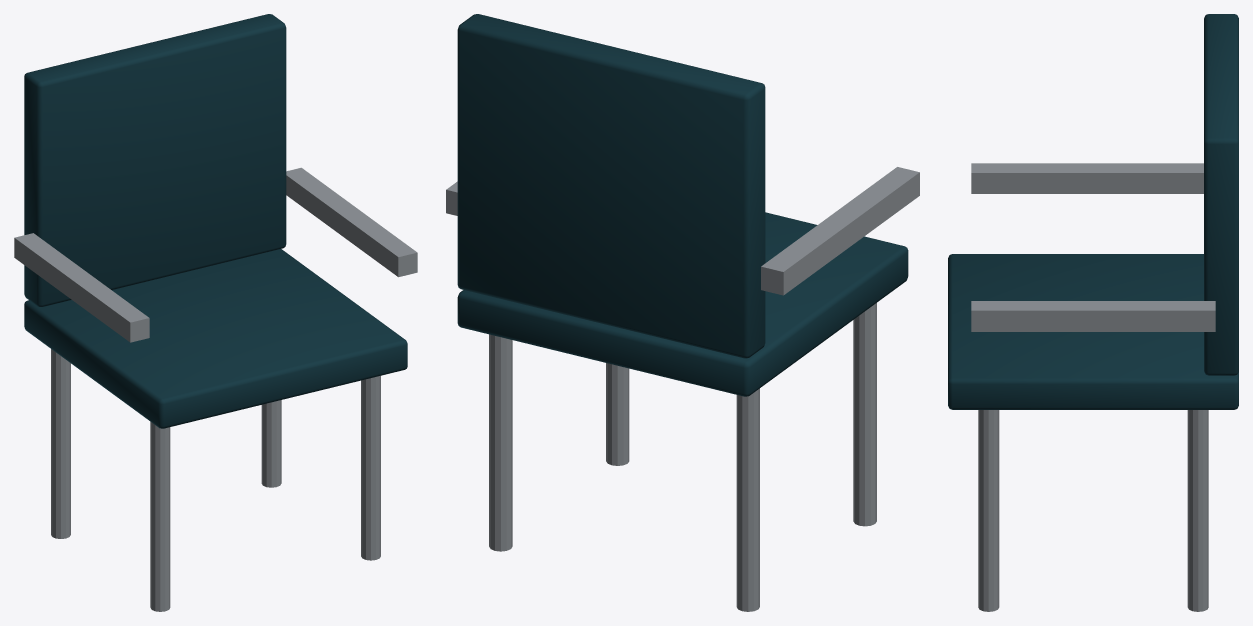
The model's file is hm_bank_lobby_chair_v2.obj.
3 views of the same model, side by side, from view 1: azimuth 30°, elevation 25°; view 2: azimuth 150°, elevation 25°; view 3: azimuth 270°, elevation 25° (orthographic). The views are drawn at different scales.
Parts seen in each view (by area): view 1: LC_Back, LC_Seat, LC_Arm_-0.28, LC_Arm_0.28, LC_LegF_-0.22, LC_LegB_-0.22, LC_LegF_0.22, LC_LegB_0.22; view 2: LC_Back, LC_Seat, LC_Arm_-0.28, LC_LegB_-0.22, LC_LegF_-0.22, LC_LegB_0.22, LC_LegF_0.22; view 3: LC_Seat, LC_Back, LC_Arm_0.28, LC_Arm_-0.28, LC_LegF_0.22, LC_LegB_0.22.
Part boxes in pixels (bbox=[...]): LC_Back: bbox=[24, 14, 286, 306]; LC_Seat: bbox=[24, 249, 407, 428]; LC_Arm_-0.28: bbox=[14, 233, 149, 342]; LC_Arm_0.28: bbox=[286, 167, 417, 277]; LC_LegF_-0.22: bbox=[150, 421, 170, 611]; LC_LegB_-0.22: bbox=[51, 349, 70, 538]; LC_LegF_0.22: bbox=[361, 375, 380, 560]; LC_LegB_0.22: bbox=[261, 400, 281, 487]; LC_Back: bbox=[457, 14, 765, 358]; LC_Seat: bbox=[457, 212, 908, 396]; LC_Arm_-0.28: bbox=[761, 167, 919, 295]; LC_LegB_-0.22: bbox=[736, 388, 759, 611]; LC_LegF_-0.22: bbox=[853, 303, 876, 526]; LC_LegB_0.22: bbox=[489, 334, 512, 551]; LC_LegF_0.22: bbox=[606, 363, 629, 465]; LC_Seat: bbox=[948, 254, 1238, 409]; LC_Back: bbox=[1204, 14, 1238, 375]; LC_Arm_0.28: bbox=[971, 301, 1215, 331]; LC_Arm_-0.28: bbox=[971, 163, 1203, 193]; LC_LegF_0.22: bbox=[978, 410, 999, 611]; LC_LegB_0.22: bbox=[1187, 410, 1208, 611].
Bounding box in the file's own units: 0.6 × 0.905 × 0.5.
